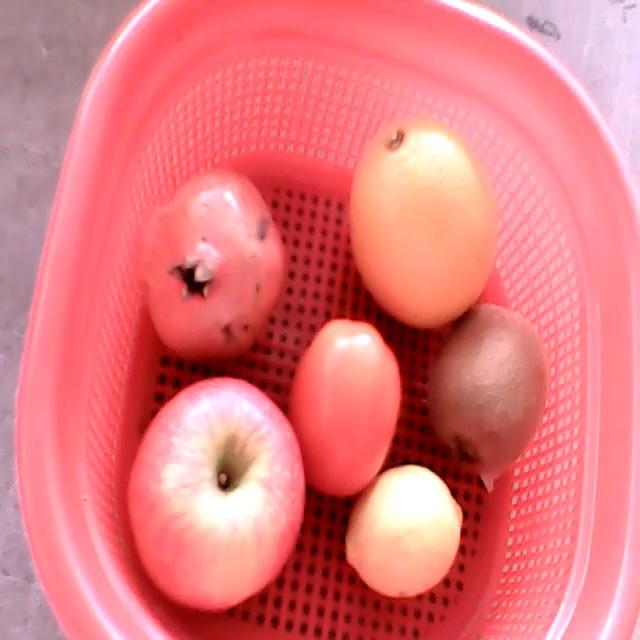apple: (127, 375, 305, 613)
kiwi: (430, 301, 547, 473)
lemon: (344, 463, 463, 596)
orange: (351, 117, 501, 328)
pomegranate: (135, 170, 285, 363)
tomato: (289, 318, 401, 496)
